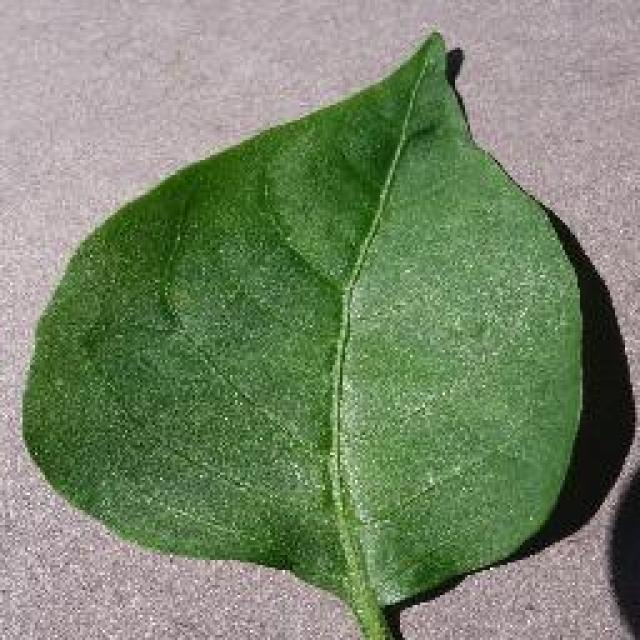Leaf: (28, 27, 622, 610)
